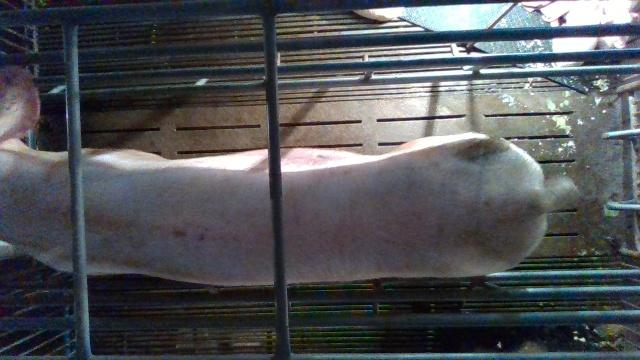piglet: (552, 0, 603, 69), (602, 0, 640, 48)
sow-stand-feed: (0, 63, 581, 286)
